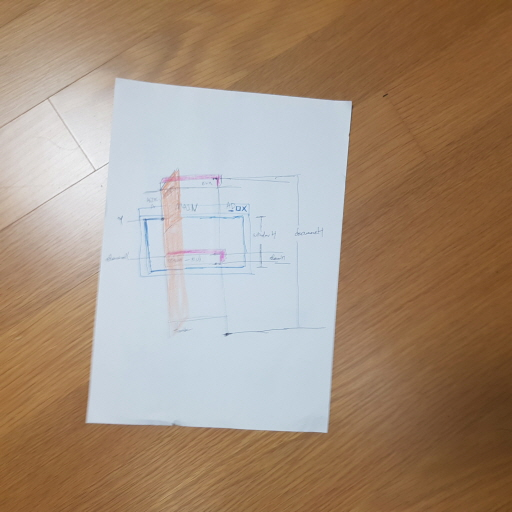Paper_2: (78, 62, 368, 454)
